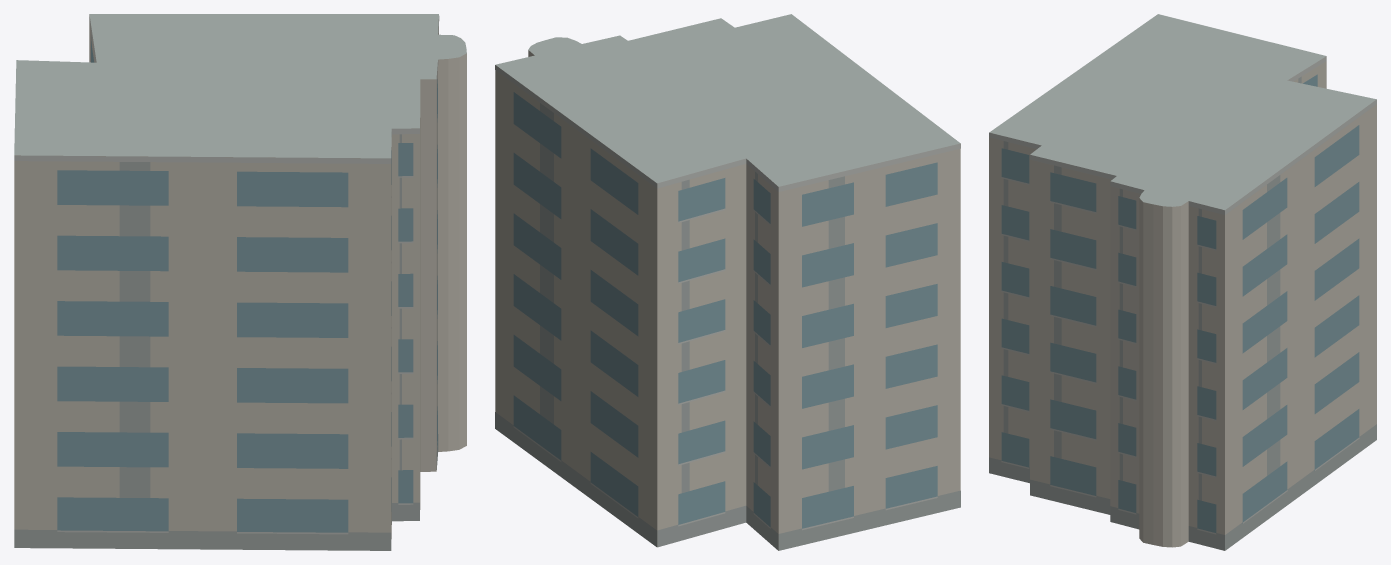
File: survey-upis-32783073.glb
The picture shows the model from 3 angles, left to right: view 1: azimuth 30°, elevation 25°; view 2: azimuth 150°, elevation 25°; view 3: azimuth 270°, elevation 25°; orthographic projection. The views are drawn at different scales.
Visible parts, largest first — view 1: survey-upis-32783073.tmp; view 2: survey-upis-32783073.tmp; view 3: survey-upis-32783073.tmp.
Boxes of the visible parts, x1,y1,x2,y2 form: survey-upis-32783073.tmp: (14, 14, 466, 550); survey-upis-32783073.tmp: (495, 14, 960, 550); survey-upis-32783073.tmp: (989, 14, 1376, 550).
Size of the model in its own units: 21.02 by 17 by 17.55.
